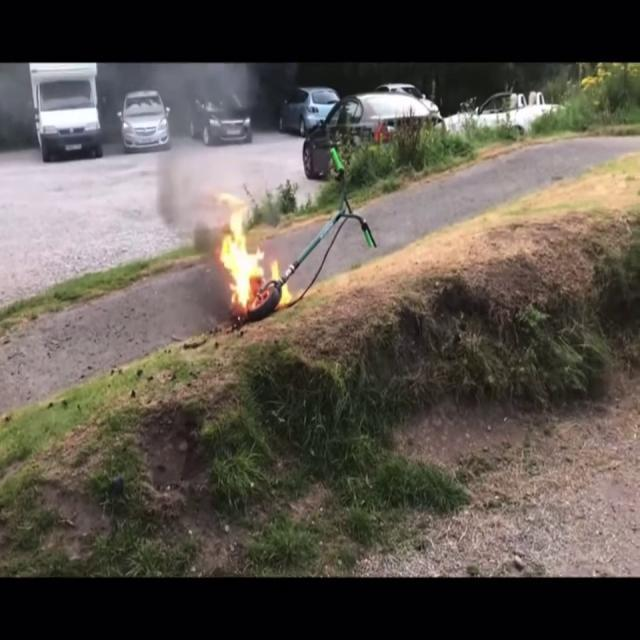Fire: (215, 189, 268, 311)
Smoke: (136, 61, 233, 221)
